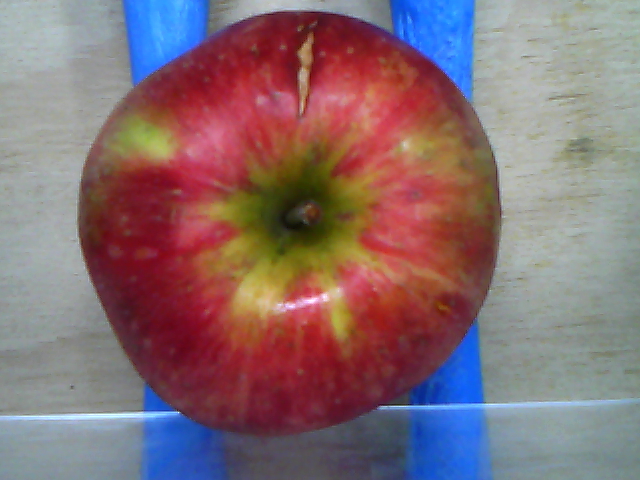stem: (281, 203, 319, 224)
